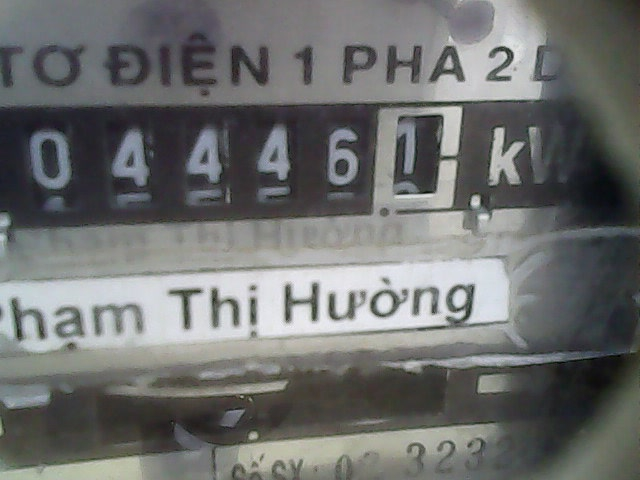phy_plate: (9, 98, 472, 218)
